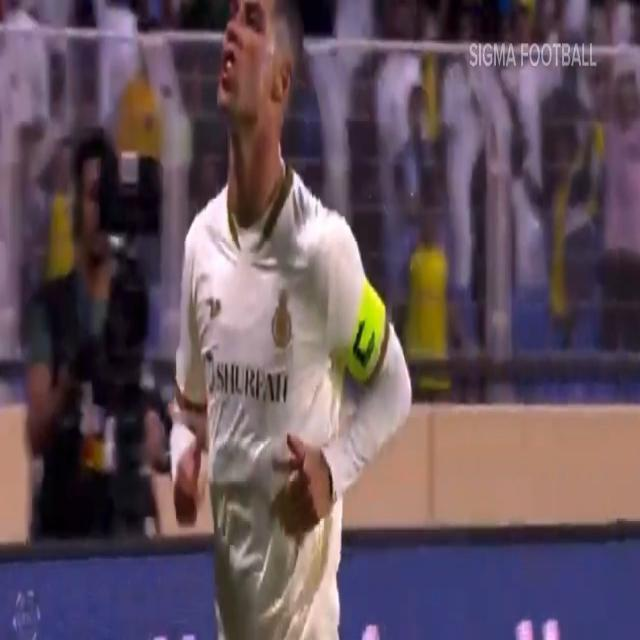player: (166, 0, 406, 636)
